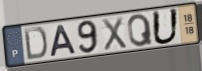9: (76, 19, 99, 55)
A: (49, 23, 78, 58)
D: (22, 26, 49, 61)
Q: (126, 12, 154, 48)
U: (151, 7, 180, 46)
X: (100, 15, 128, 52)
